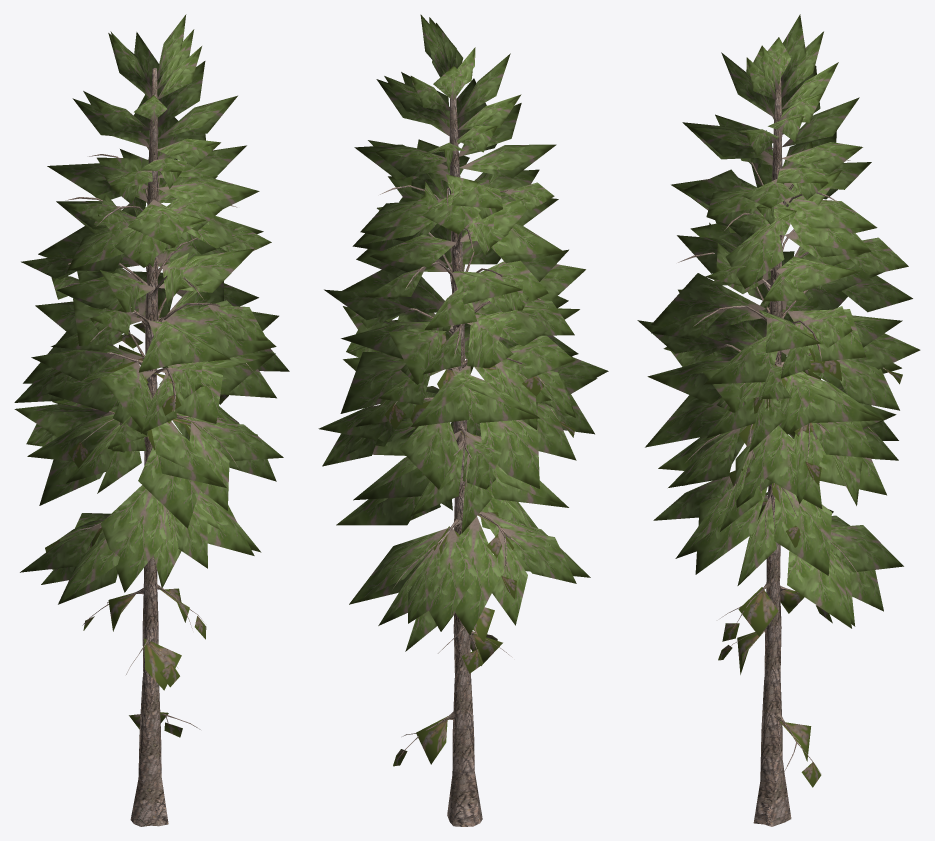
Rendered from spruce_LOD3.fbx.
3 renders of one model, left to right at view 1: azimuth 30°, elevation 25°; view 2: azimuth 150°, elevation 25°; view 3: azimuth 270°, elevation 25°, orthographic.
Visible parts, largest first — view 1: spruce branch_1, bark08_0, branch06_2; view 2: spruce branch_1, bark08_0, branch06_2; view 3: spruce branch_1, bark08_0, branch06_2.
Boxes of the visible parts, x1,y1,x2,y2 form: spruce branch_1: (14,14,289,604); bark08_0: (59,68,253,826); branch06_2: (45,301,228,737); spruce branch_1: (318,14,608,651); bark08_0: (352,97,558,826); branch06_2: (384,332,575,766); spruce branch_1: (637,14,920,628); bark08_0: (678,78,885,826); branch06_2: (718,333,902,787).
Bounding box in the file's own units: 354 × 1063 × 341.
3 materials, 3 textured.
